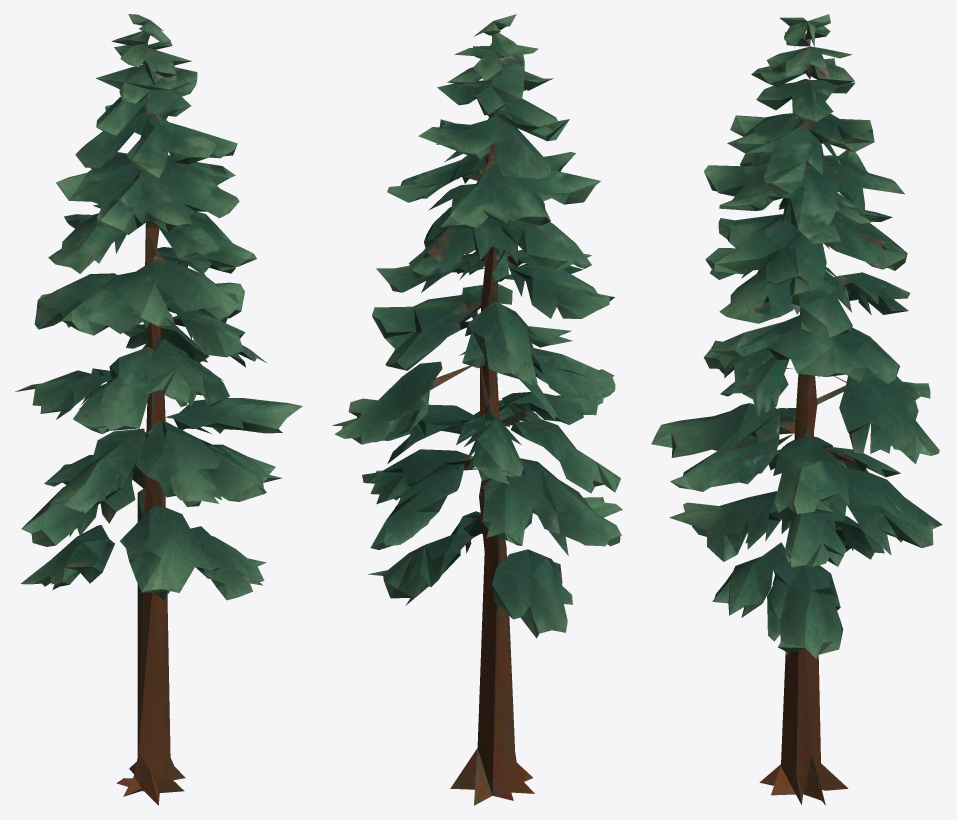
The model's file is treePine.glb.
3 views of the same model, side by side, from view 1: azimuth 30°, elevation 25°; view 2: azimuth 150°, elevation 25°; view 3: azimuth 270°, elevation 25° (orthographic).
Parts seen in each view (by area): view 1: output_unwrapped; view 2: output_unwrapped; view 3: output_unwrapped.
Part boxes in pixels (x1,y1,x2,y2): output_unwrapped: [15, 14, 302, 805]; output_unwrapped: [332, 14, 622, 805]; output_unwrapped: [651, 14, 942, 805].
Size of the model in its own units: 0.6858 by 1.82 by 0.6241.
Materials: 1 (1 with a texture image).
